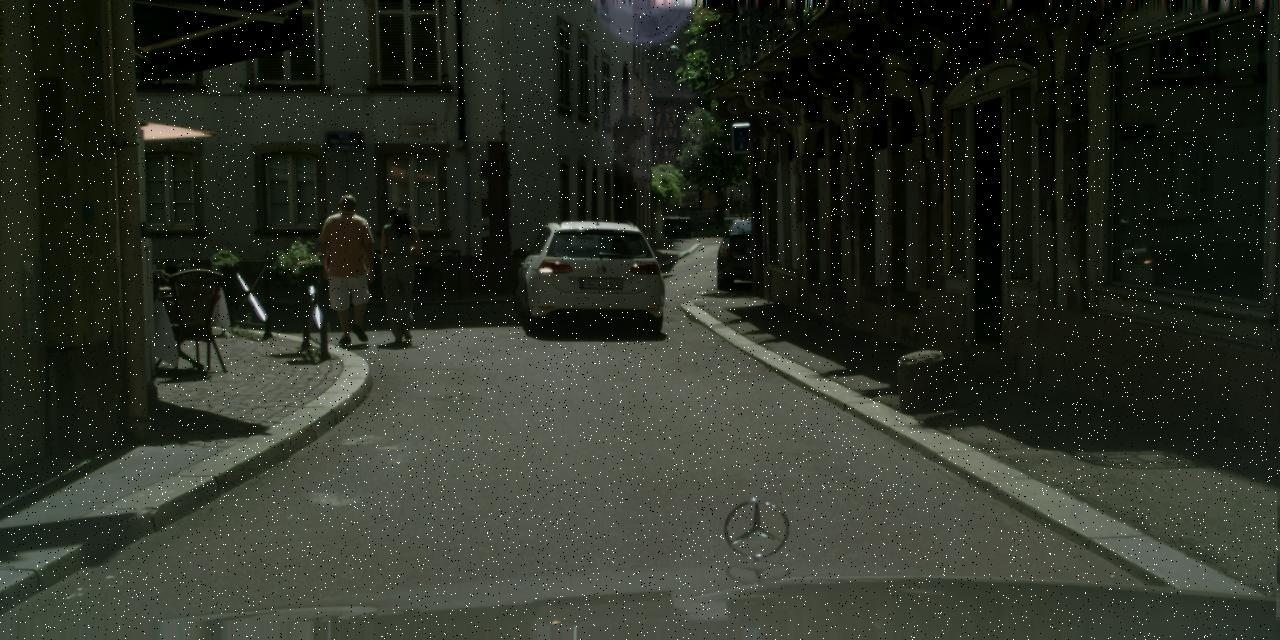ped: (319, 194, 380, 343), (372, 206, 426, 340)
